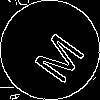M: (25, 25, 86, 86)
